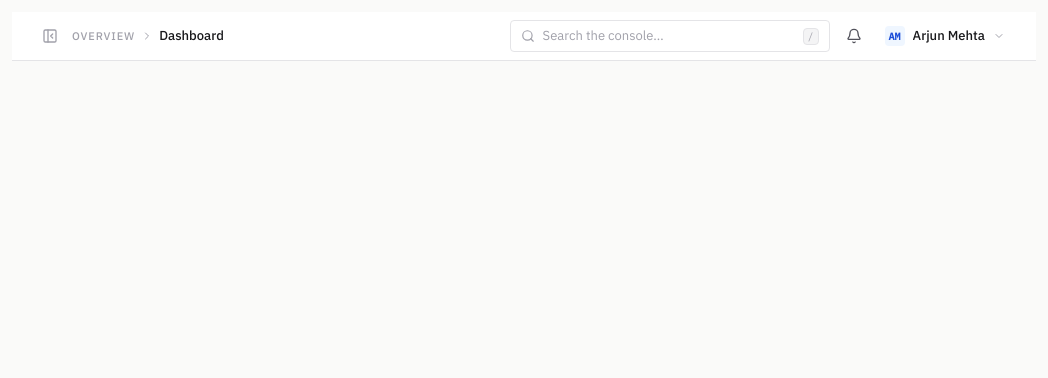
Test case: Topbar › opens the search palette with the / shortcut and filters pages
Press /
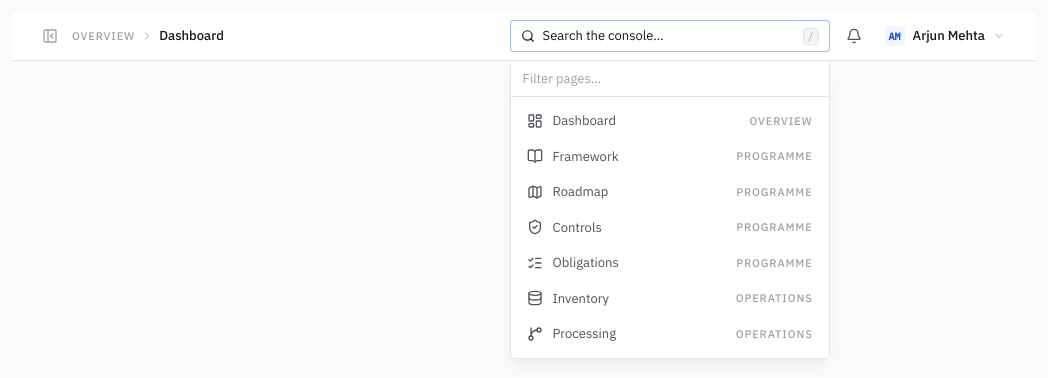
Expected: the field named "Search pages" is shown
Type "ai" into the field named "Search pages" at {"x": 670, "y": 79}, box [511,61,829,97]
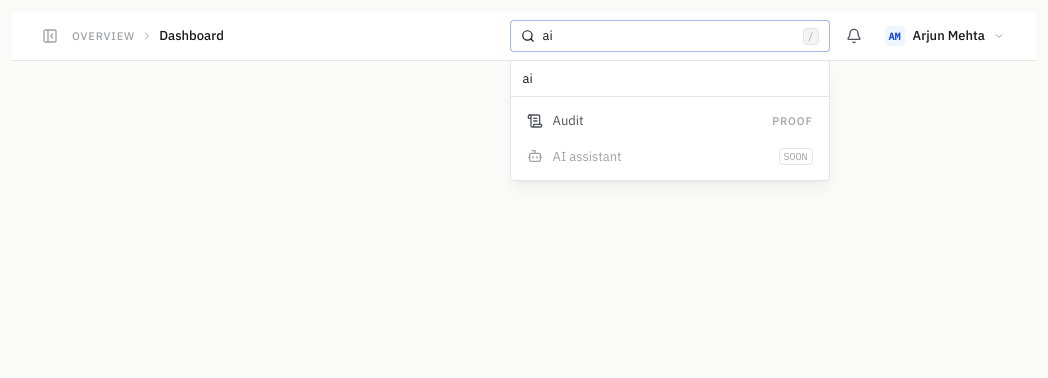
Expected: the text "AI assistant" is shown, [553,148,622,164]
Expected: the text "Soon" is shown, [779,148,813,165]
